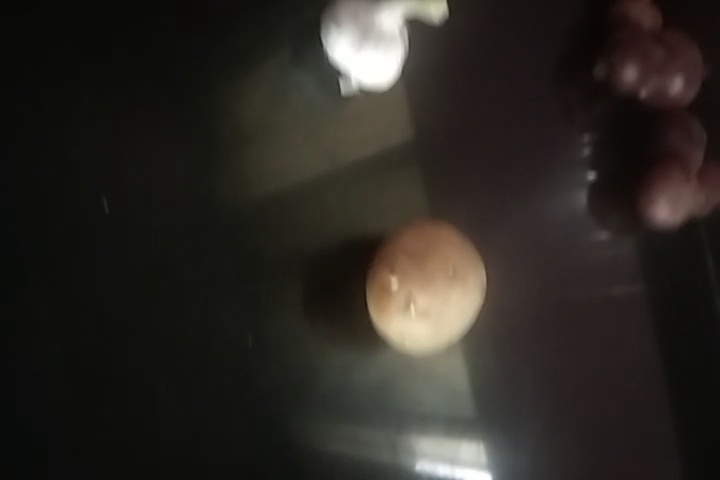garlic: (321, 1, 449, 103)
onion: (603, 14, 703, 112), (643, 159, 701, 229), (651, 114, 708, 170)
potato: (359, 219, 493, 349)
